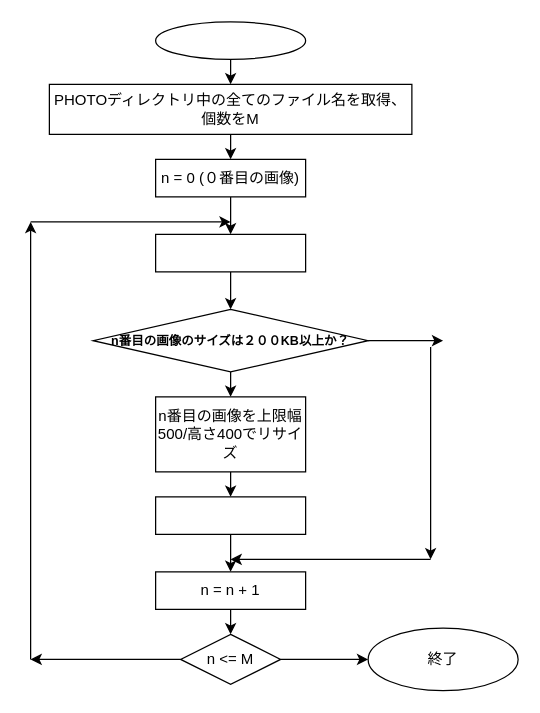
This 540x713 diagram has some shape labels left out. Each missing label, with the box of its shape:
n番目の画像を開く: (154, 233, 306, 272)
上書き保存: (154, 496, 306, 534)
開始: (154, 21, 306, 59)
